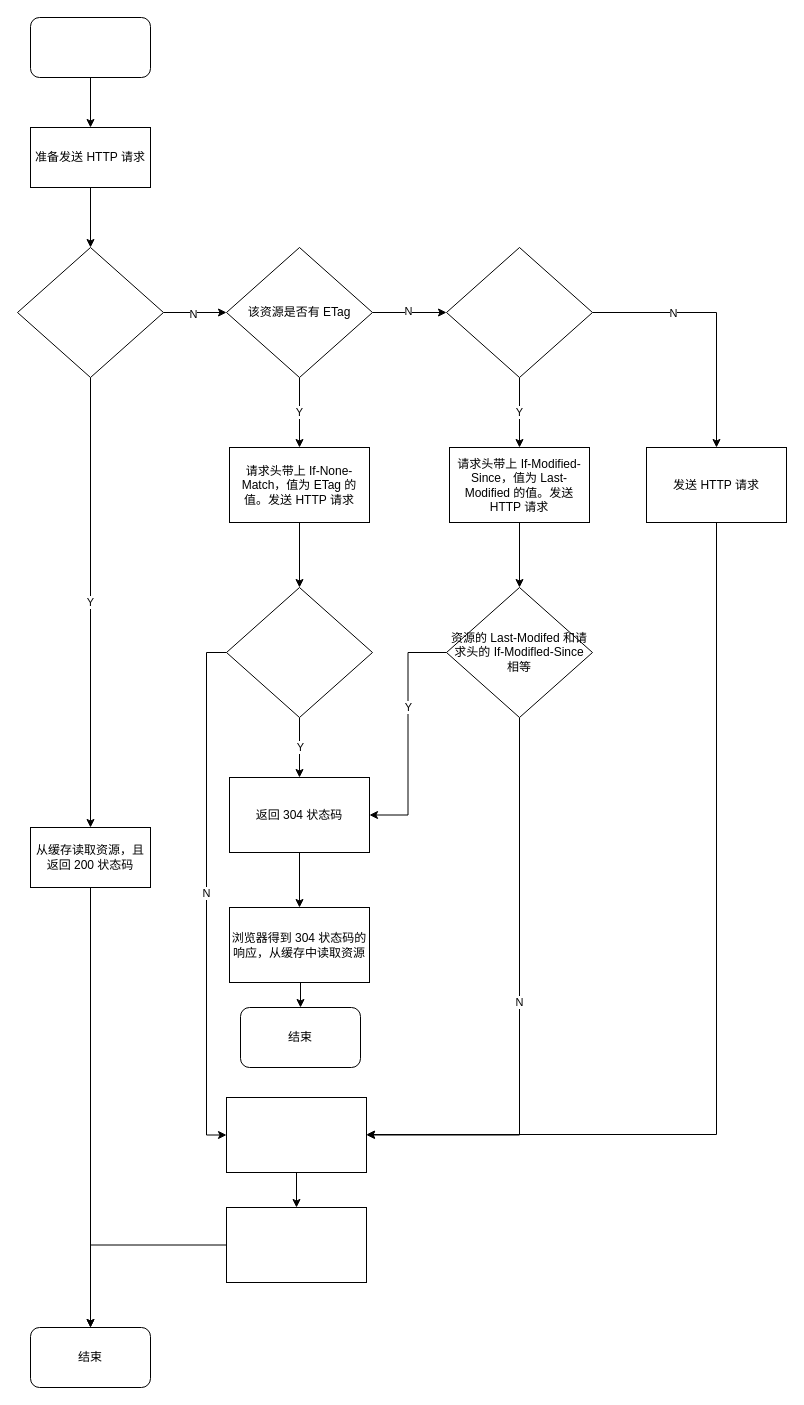
This 804x1405 diagram has some shape labels left out. The centre of each missing label's shape, as x and y in pixels:
开始: the point at 90,47
服务端计算文件的 ETag 值，与请求头的 If-None-Match 值相等: the point at 299,652
浏览器得到 200 状态码的响应，从响应中得到资源: the point at 296,1244
该资源是否有 Last-Modified: the point at 519,312
请求头中是否有 Cache-Control 或 Expires 属性，且未过期: the point at 90,312
返回 200 状态码和资源: the point at 296,1134
